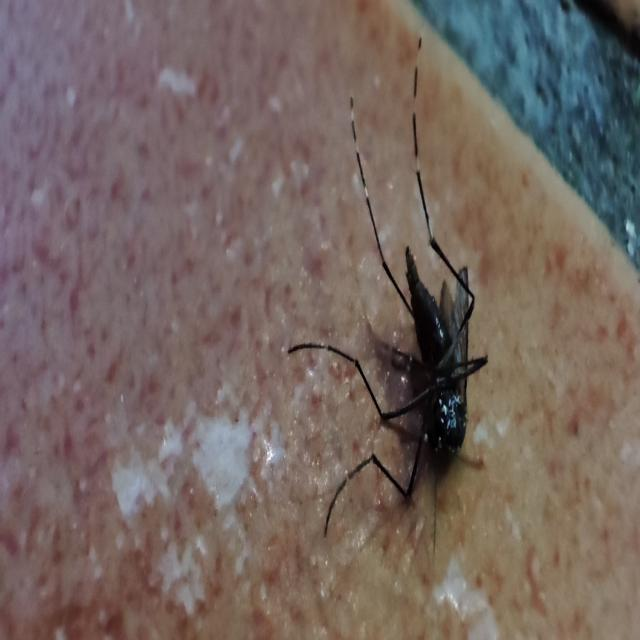albopictus: (290, 19, 496, 584)
